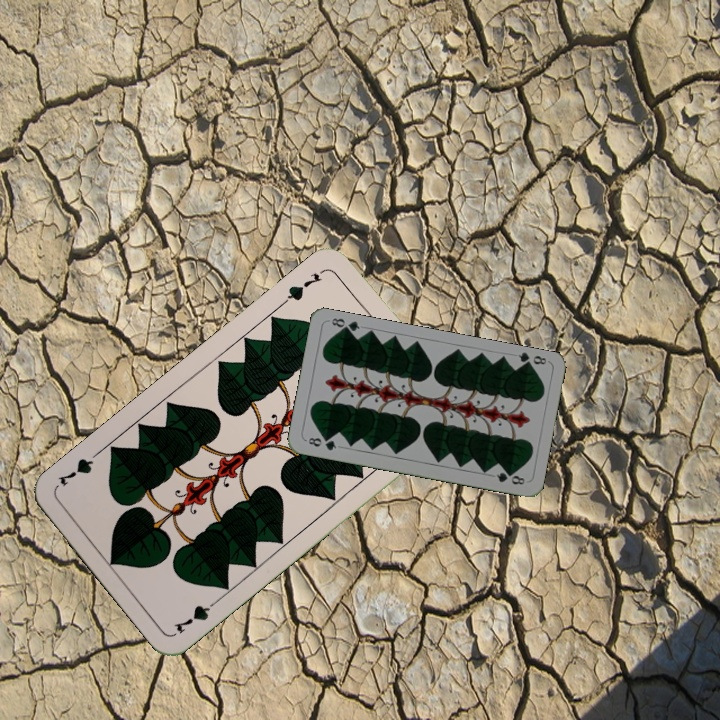G7: (170, 594, 223, 637), (279, 265, 328, 307)
G8: (514, 349, 549, 371), (304, 433, 339, 453)
